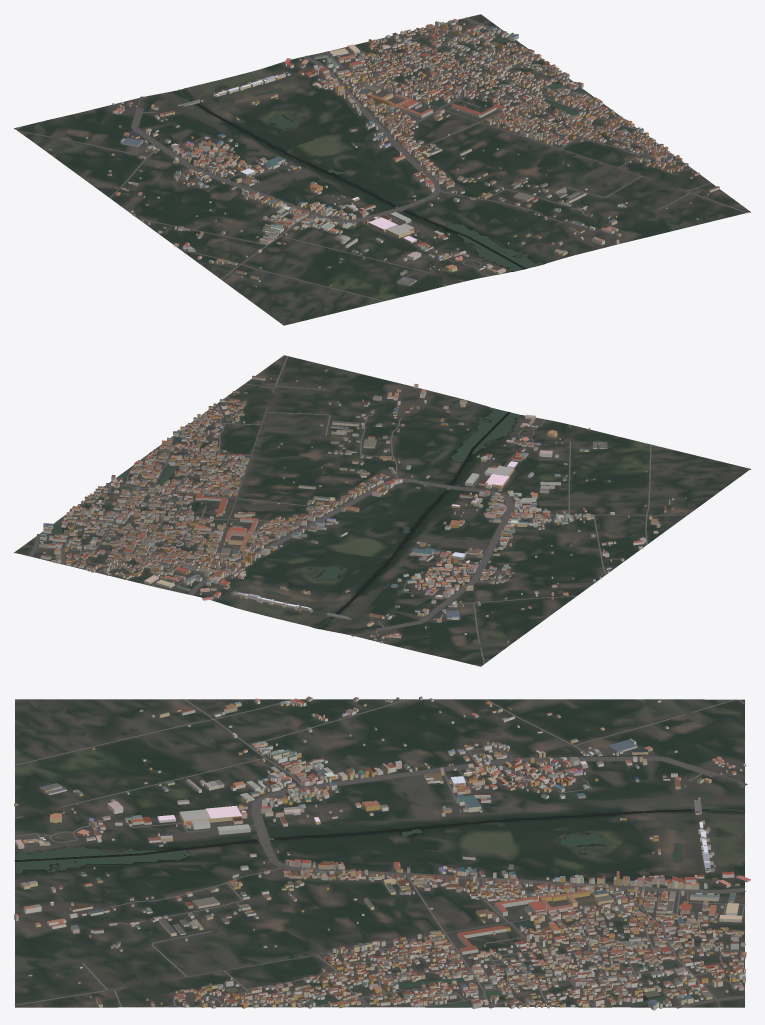
3 renders of one model, top to bottom at view 1: azimuth 30°, elevation 25°; view 2: azimuth 150°, elevation 25°; view 3: azimuth 270°, elevation 25°, orthographic. The views are drawn at different scales.
Parts seen in each view (by area): view 1: ground, buildings, roads, water; view 2: ground, buildings, roads, water; view 3: ground, buildings, roads, water.
Boxes of the visible parts, x1,y1,x2,y2 form: ground: (14,14,750,325); buildings: (48,19,719,287); roads: (16,17,747,301); water: (178,37,649,271); ground: (14,355,750,666); buildings: (39,369,686,643); roads: (23,356,687,665); water: (51,407,520,628); ground: (15,699,744,1007); buildings: (14,696,750,1010); roads: (15,699,747,1008); water: (14,809,744,1006).
Size of the model in its own units: 1416 by 32.24 by 1415.
